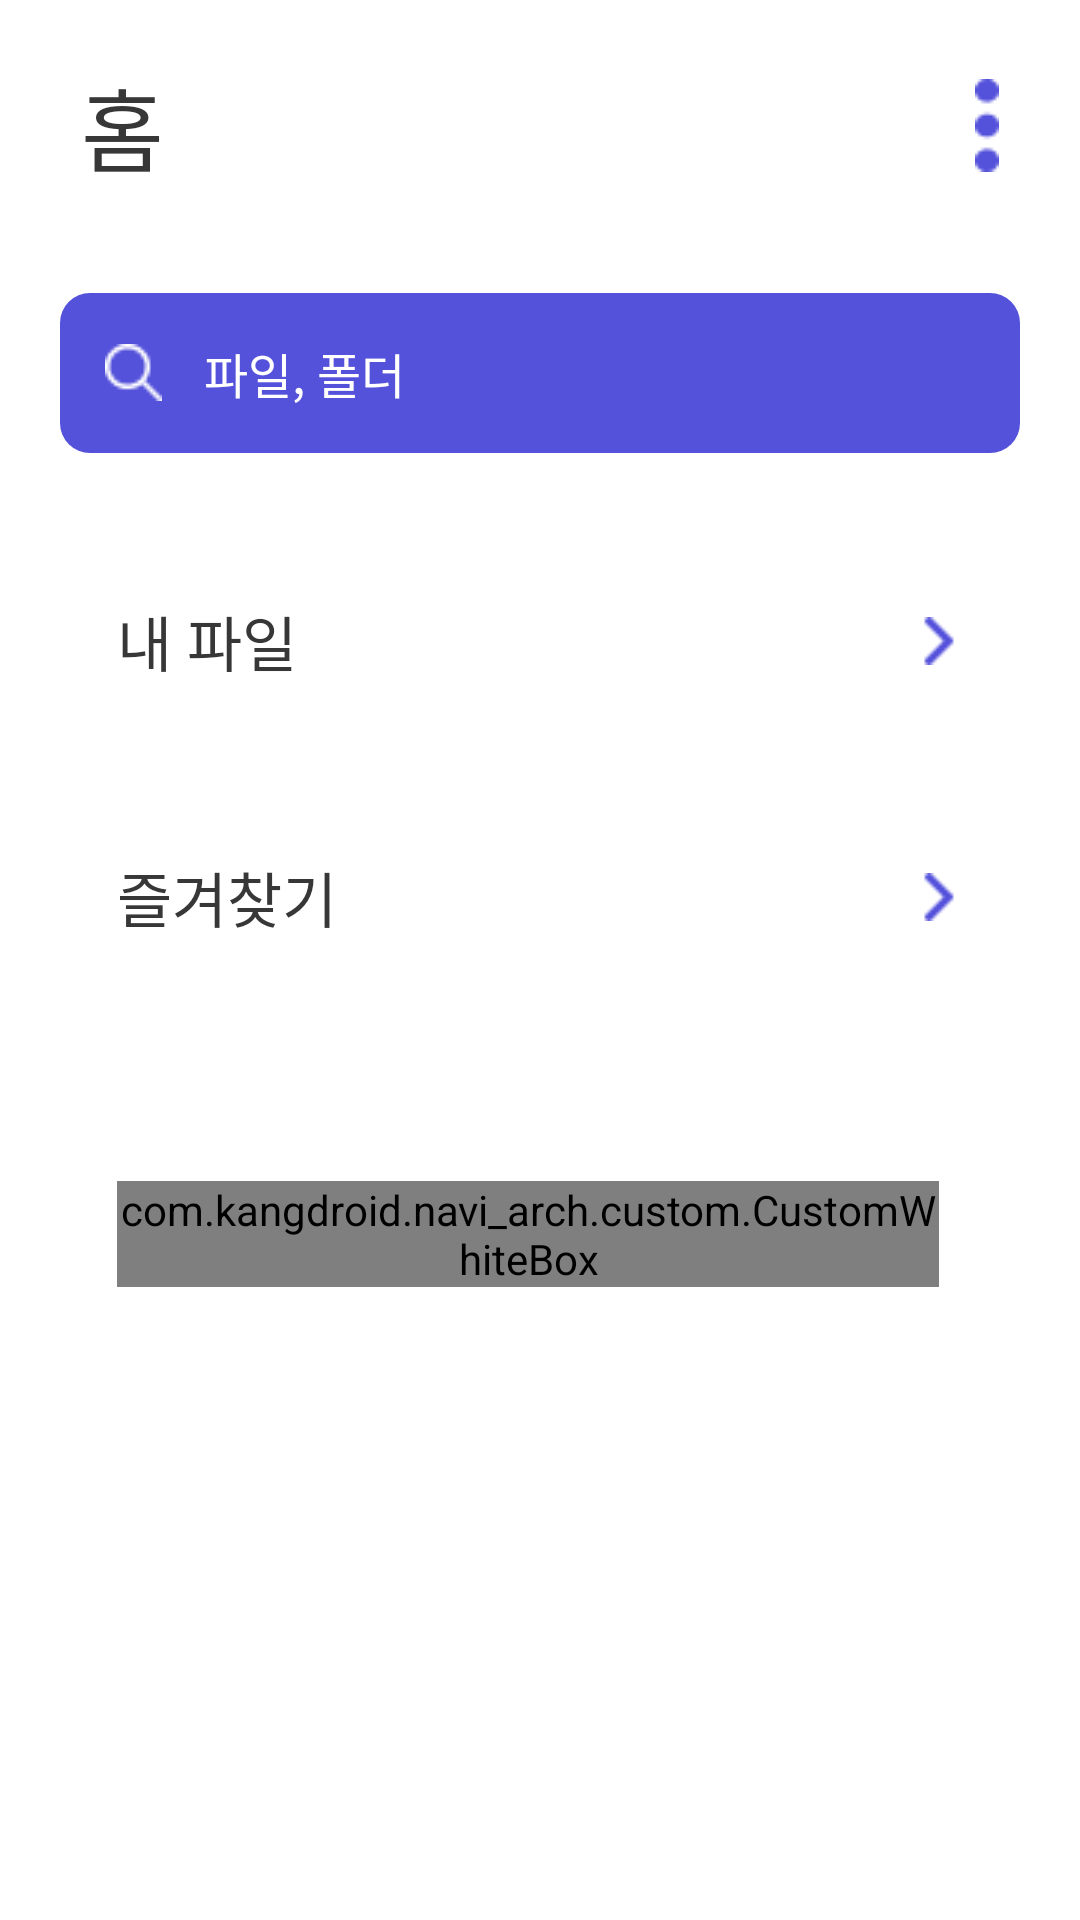

Icon click points for this 1080px x 1920px phone screenshot, format point (x, y):
arrow right: point (939, 641), point (939, 897)
option: point (987, 125)
search: point (133, 372)
